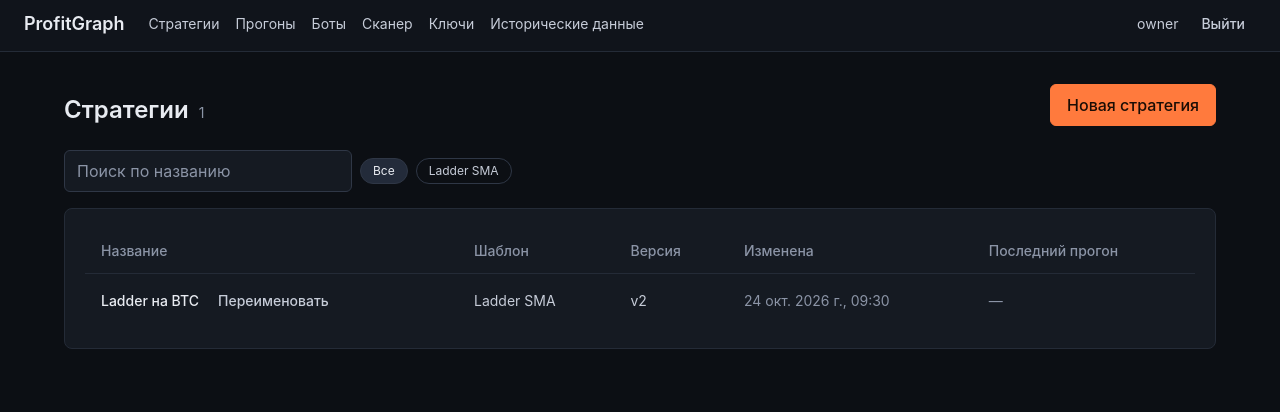
Scenario: renaming › renames a strategy from the list
Click the button "Переименовать".
click(273, 301)  # box [207,286,340,316]
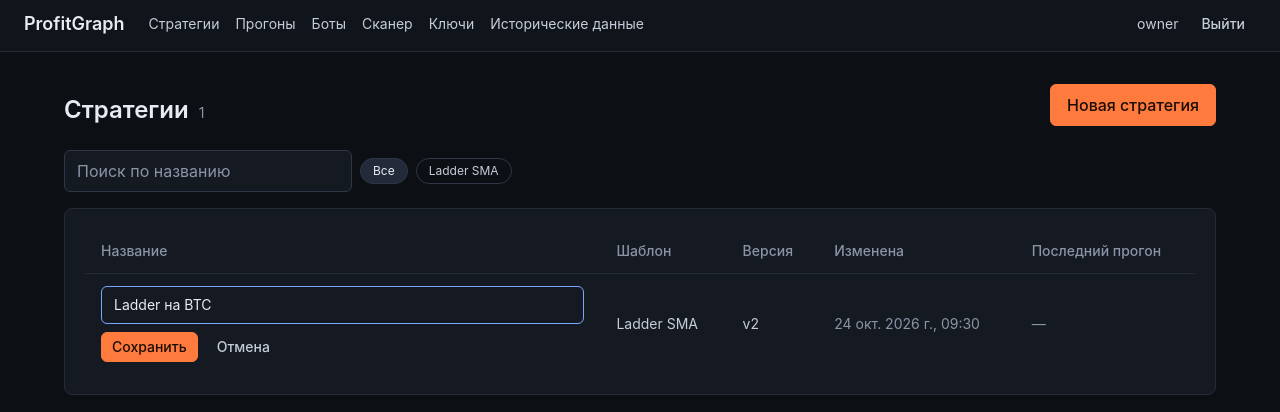
Replace the text in the field named "Название стратегии" with "Лесенка 2" at [343, 305], box [101,286,584,324]
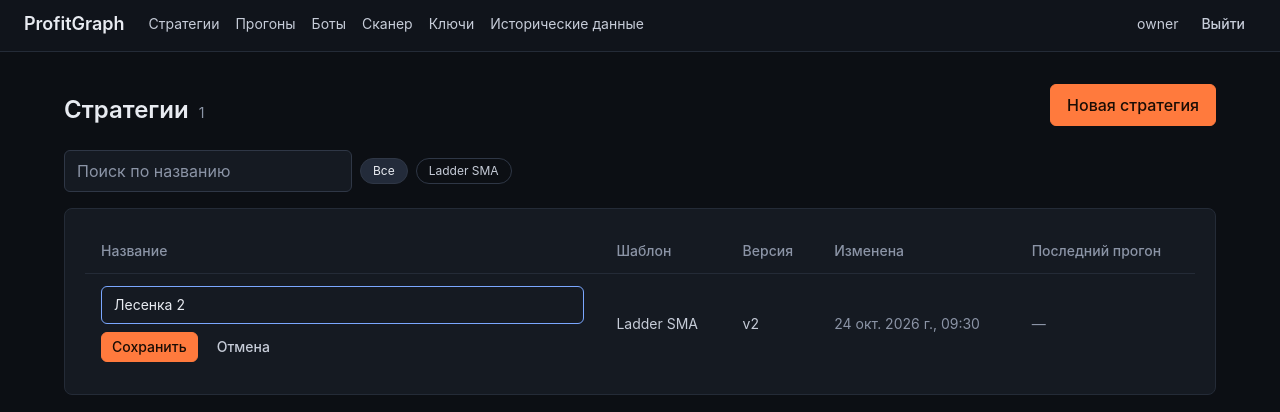
Press Enter
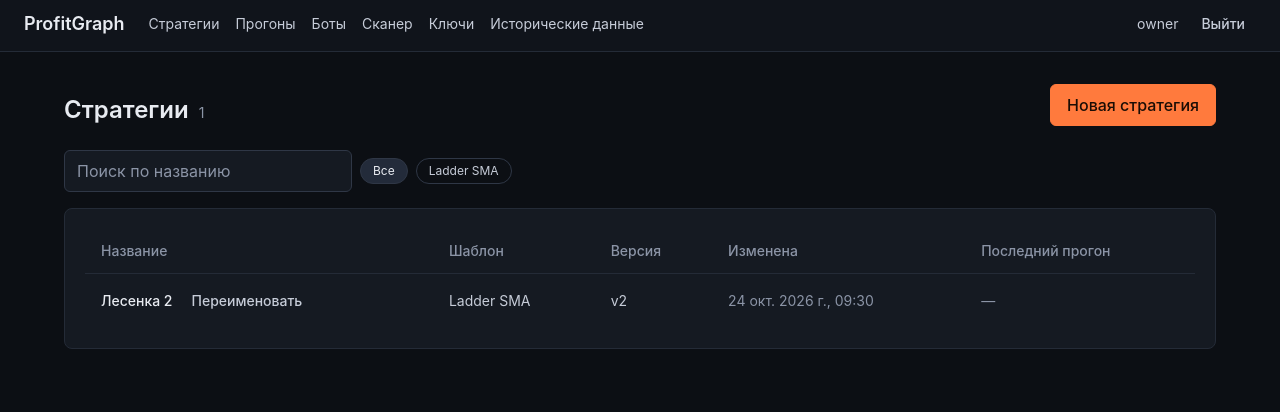
Expected: the link "Лесенка 2" is shown, [101,291,172,311]
